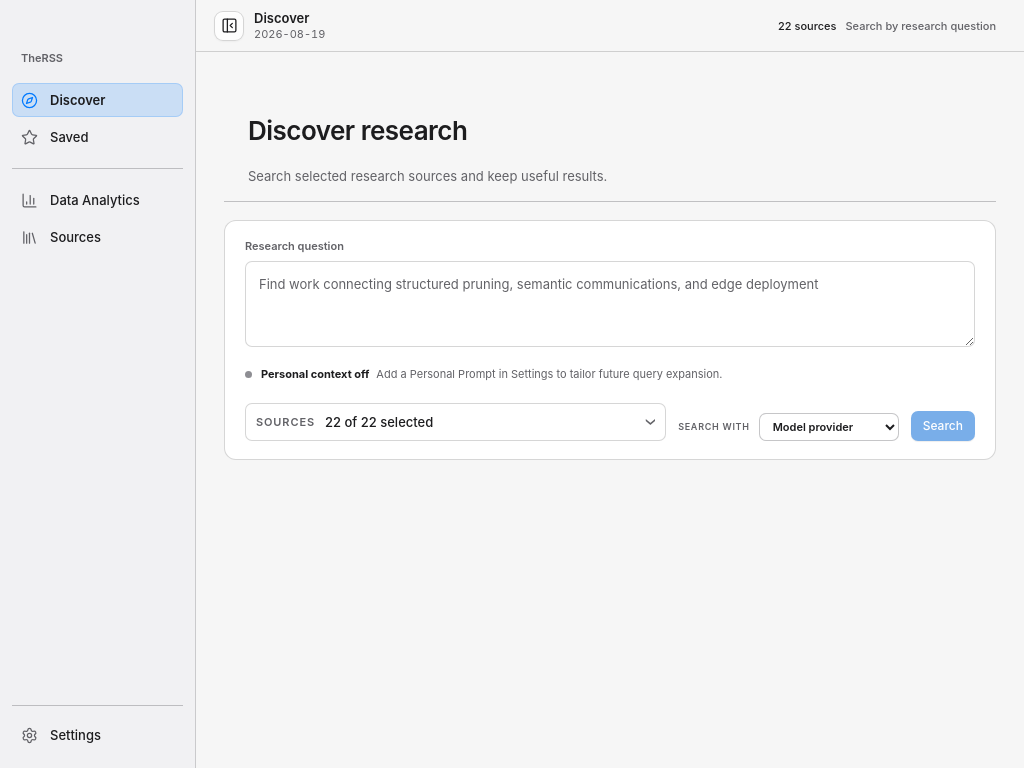
Test case: Saved source update in the compatibility UI › applies the exact preview and replaces visible metadata while retaining Saved state
The image size is (1024, 768).
Click the button with aria-label "02 Saved" at (98, 137), box [12, 120, 183, 154]
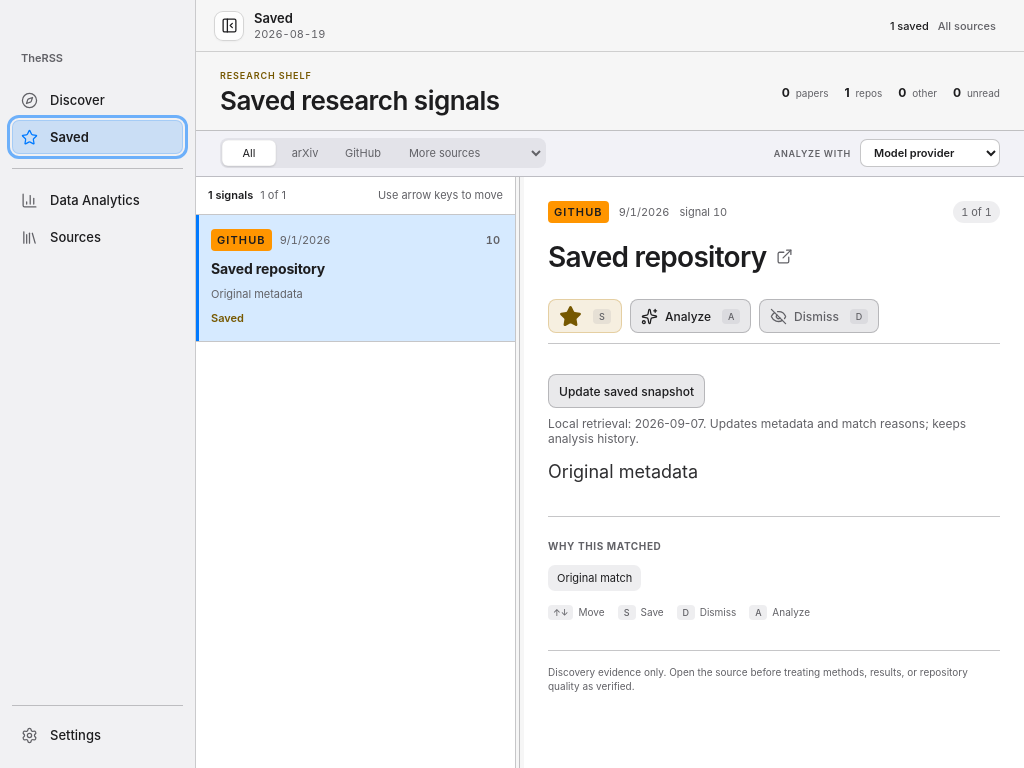
Check: the button "Update saved snapshot" is enabled
Click the button "Update saved snapshot" at (627, 391), box [548, 374, 705, 408]
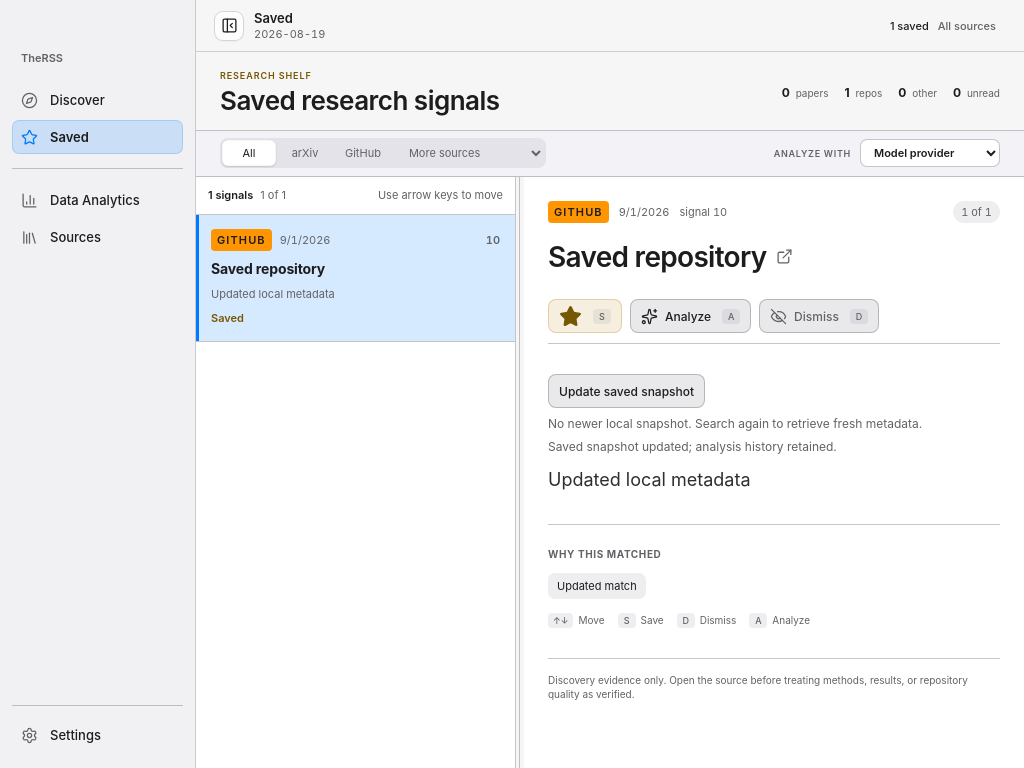
Check: the 2nd text "Updated local metadata" is shown, box [548, 469, 750, 490]
